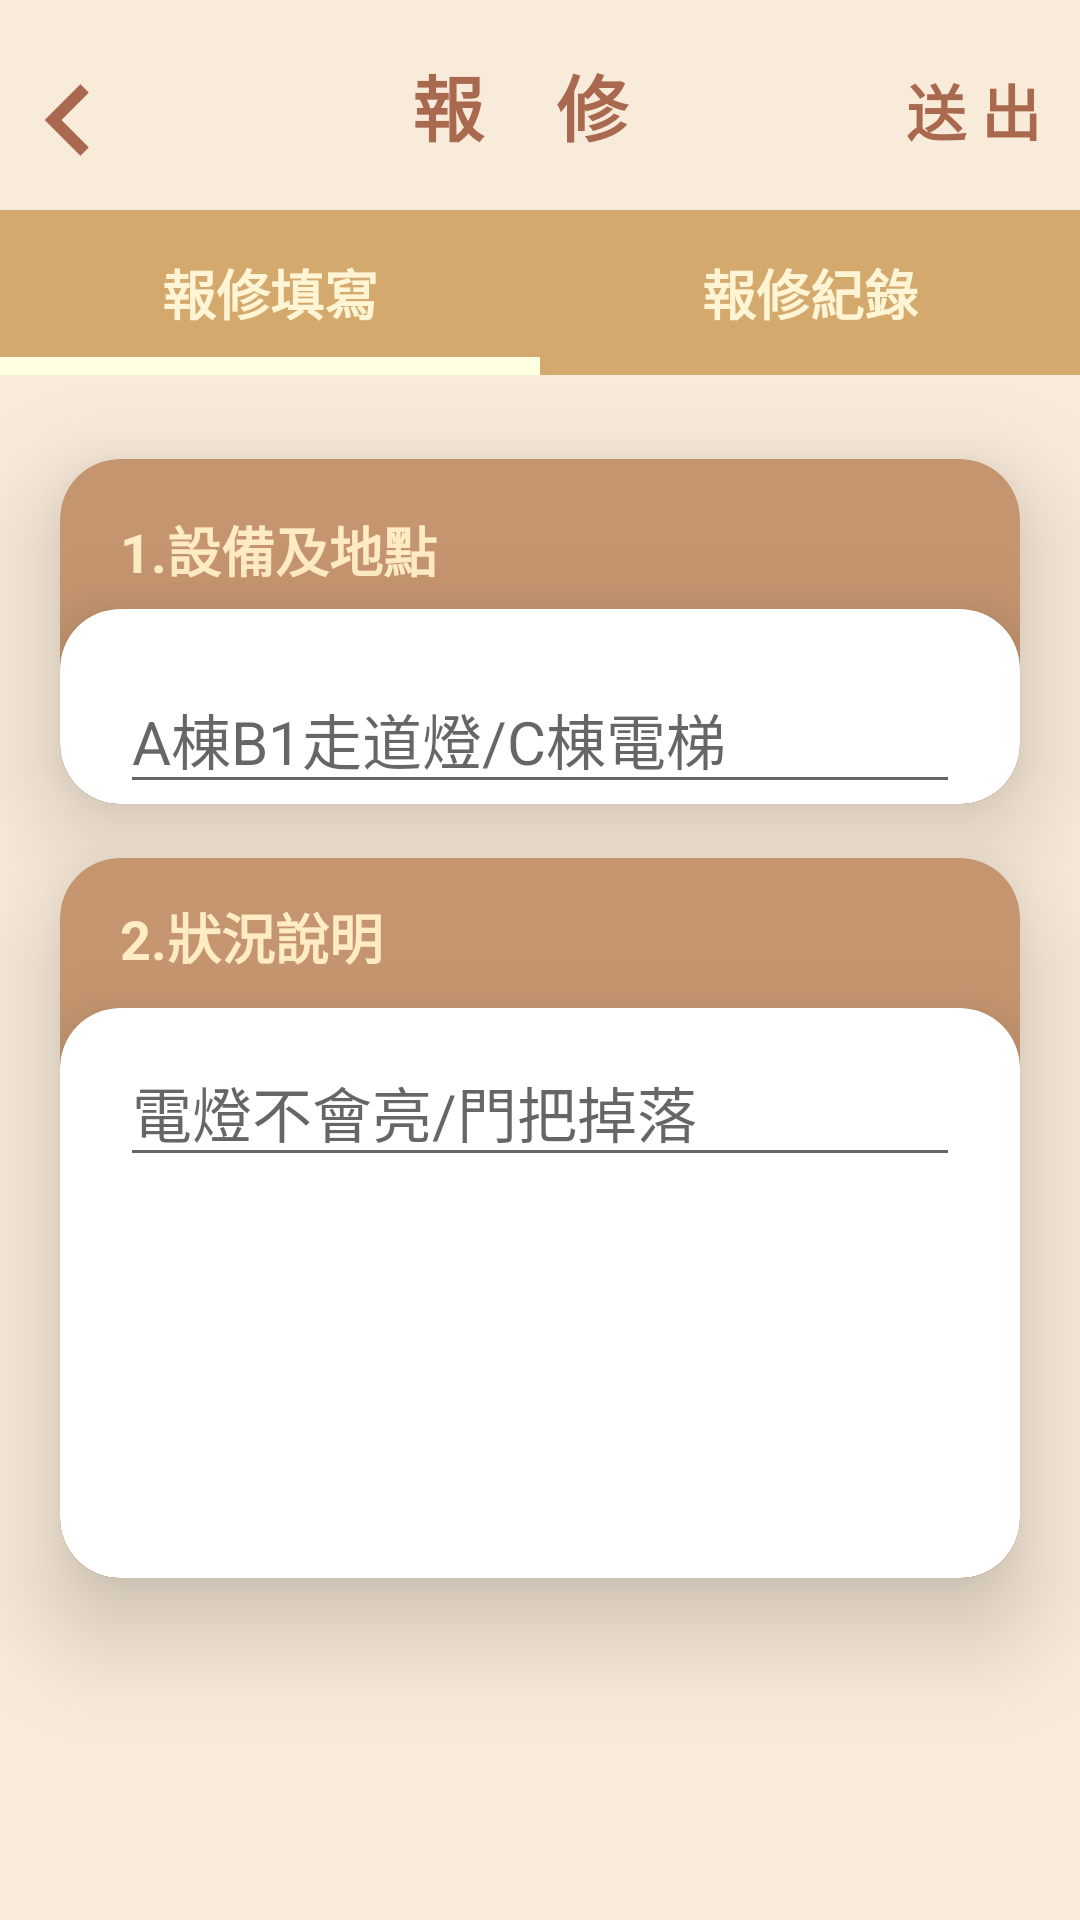

Icons on this 1080 × 1920 Android screen, each with its box as {"x1": x1, "y1": y1, "x2": x2, "y2": y2}:
previous page: {"x1": 45, "y1": 84, "x2": 89, "y2": 156}
